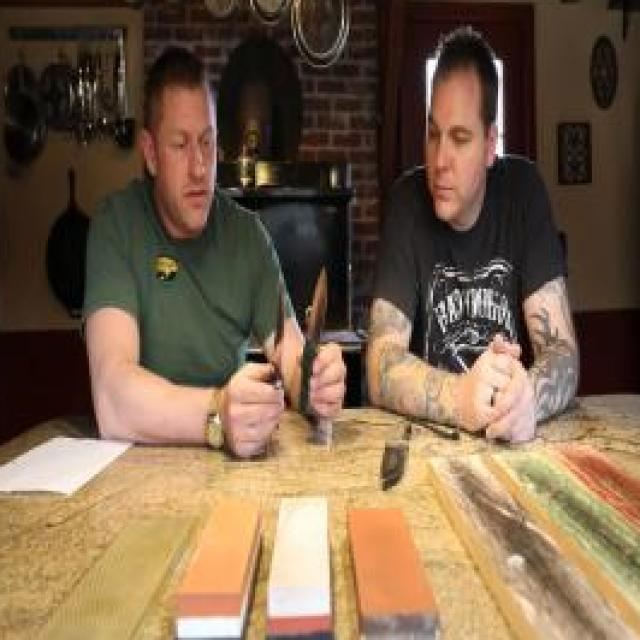knife: (228, 270, 288, 433), (297, 255, 351, 397)
